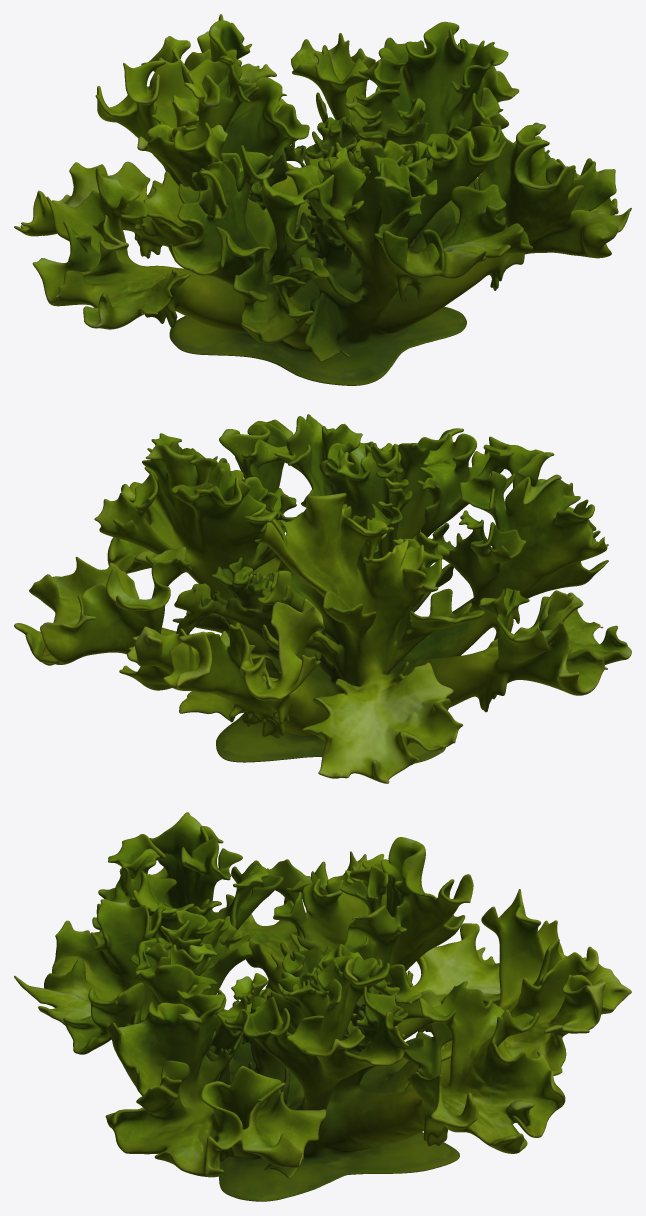
Rendered from limambo_heading.glb.
3 views of the same model, one above another, from view 1: azimuth 30°, elevation 25°; view 2: azimuth 150°, elevation 25°; view 3: azimuth 270°, elevation 25° (orthographic). The views are drawn at different scales.
Visible parts, largest first — view 1: tripo_node_f71e3531-a728-4c55-9a70-82f99f874a94; view 2: tripo_node_f71e3531-a728-4c55-9a70-82f99f874a94; view 3: tripo_node_f71e3531-a728-4c55-9a70-82f99f874a94.
Part boxes in pixels (box(x1,y1,x2,y2)): tripo_node_f71e3531-a728-4c55-9a70-82f99f874a94: box(14, 14, 631, 385); tripo_node_f71e3531-a728-4c55-9a70-82f99f874a94: box(14, 414, 631, 783); tripo_node_f71e3531-a728-4c55-9a70-82f99f874a94: box(14, 812, 631, 1201).
Bounding box in the file's own units: 0.9963 × 0.494 × 1.
Materials: 1 (1 with a texture image).
